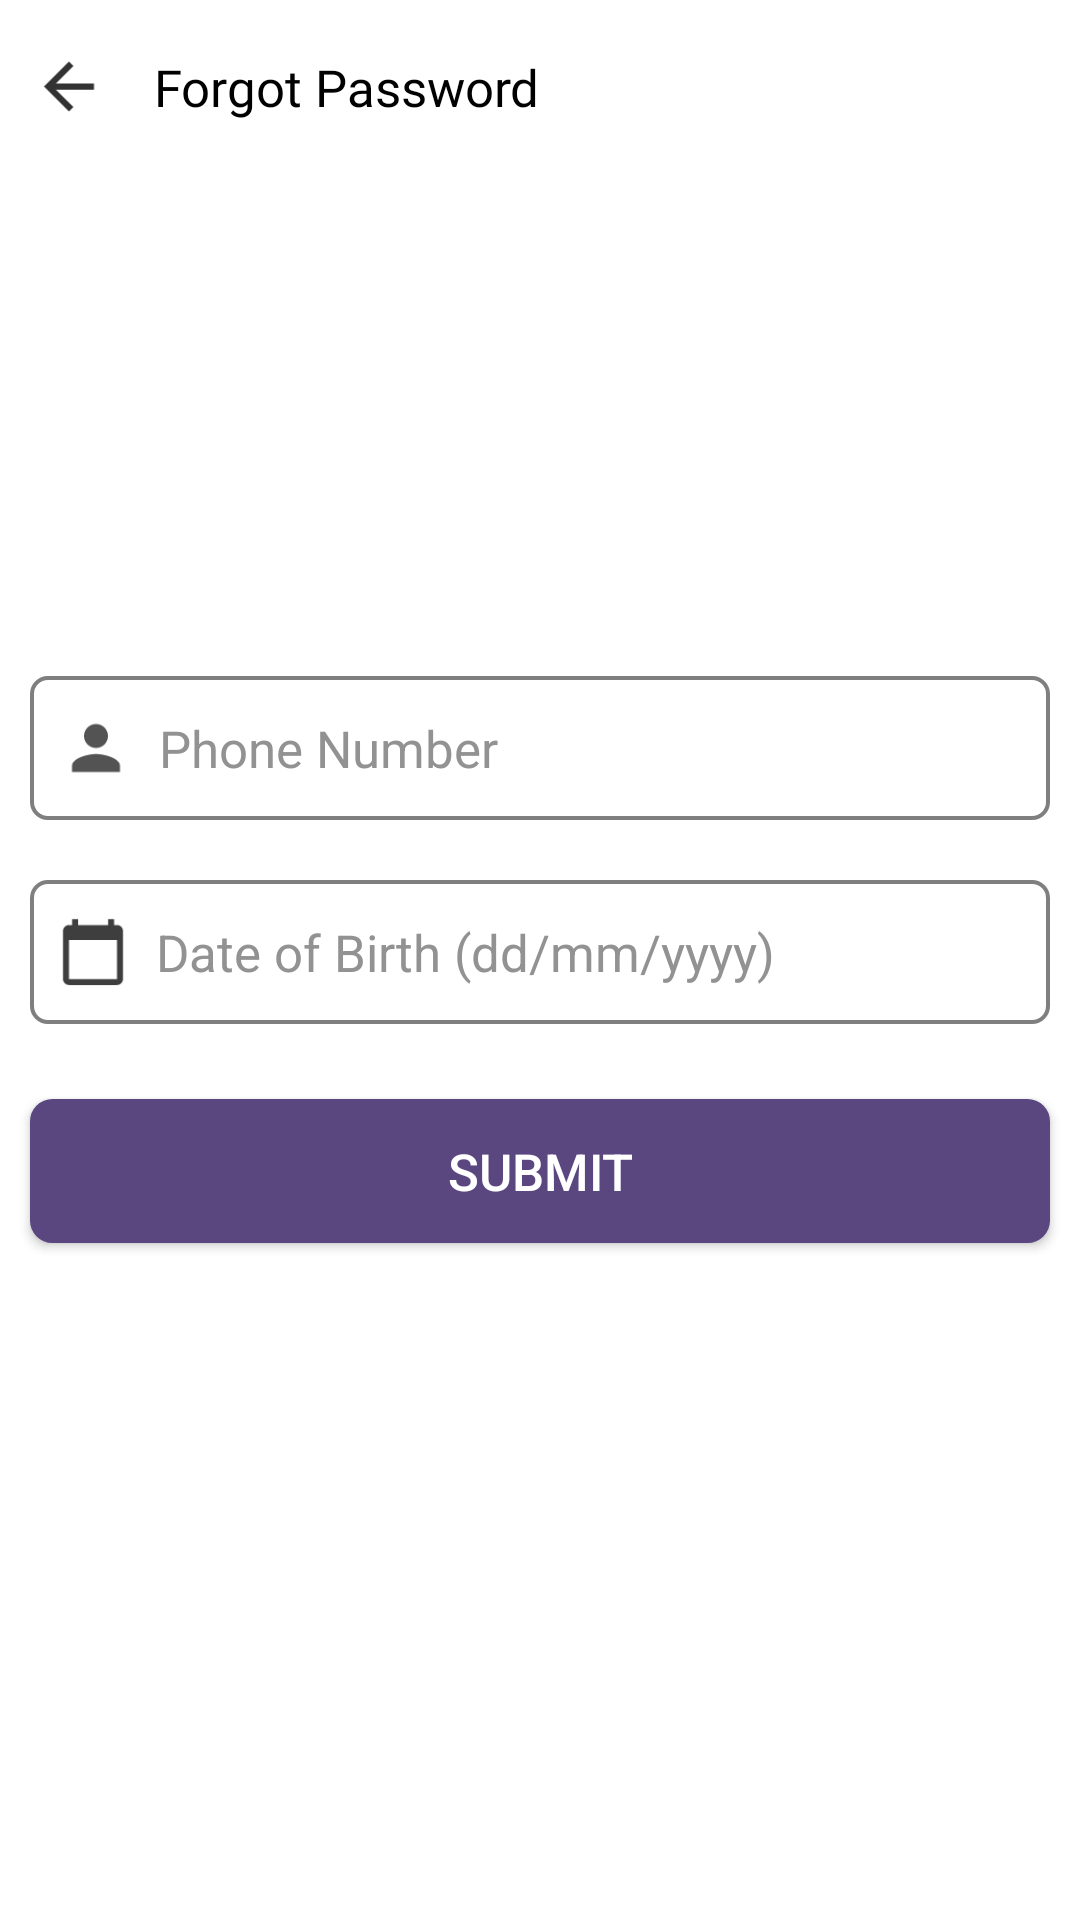

Icons on this 1080px x 1920px Android screen, each with the point to tap as point (x, y):
Back button to move back: point (69, 86)
